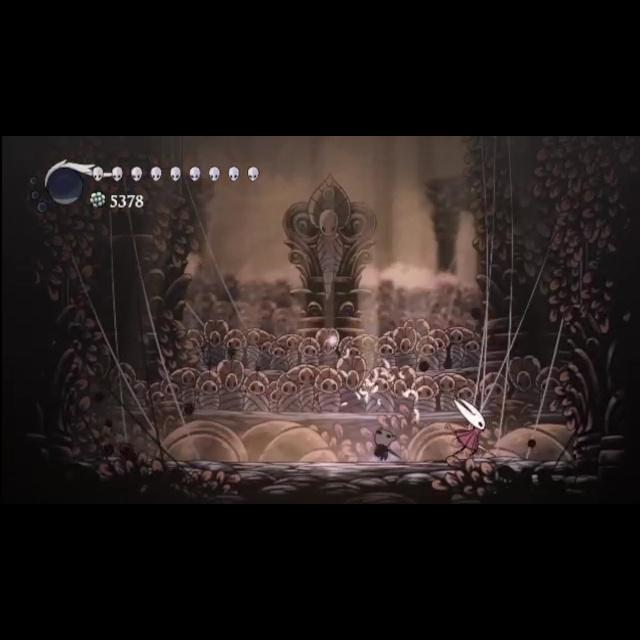Enemy: (444, 394, 494, 464)
Player: (367, 424, 408, 464)
